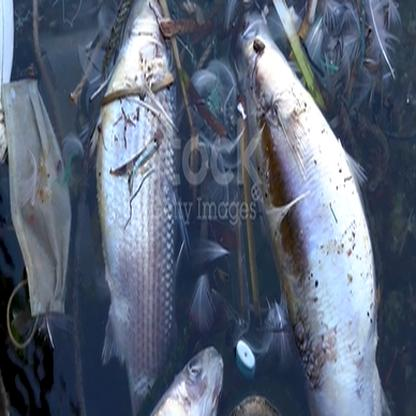deceased fish: (229, 14, 404, 416), (98, 6, 182, 415)
